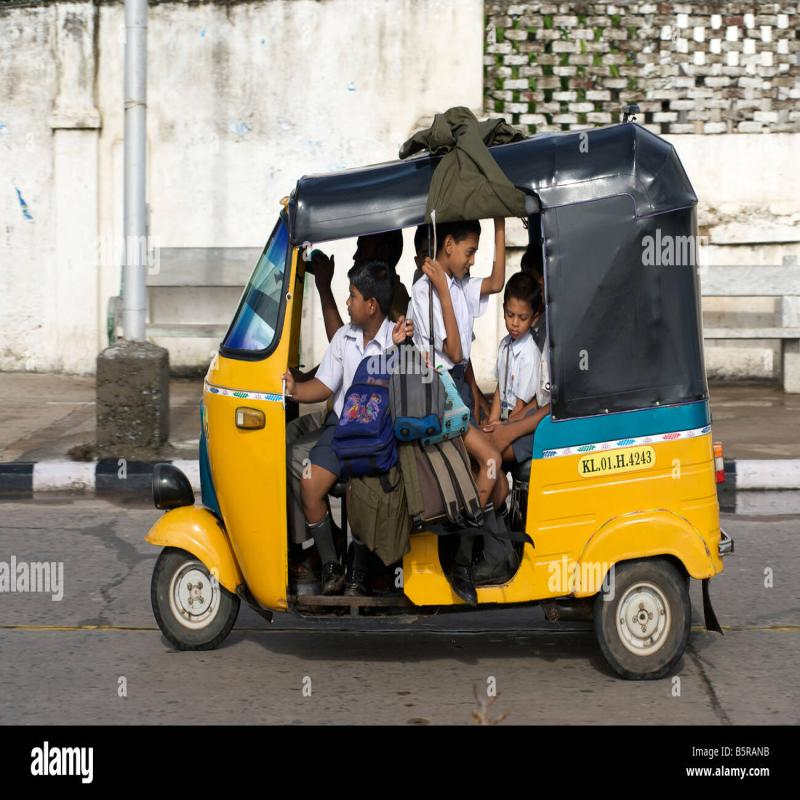auto: (138, 105, 726, 660)
